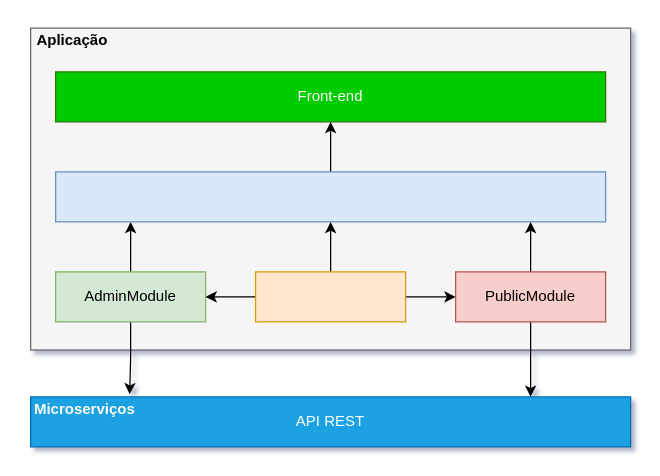
This 660x476 diagram has some shape labels left out. The centre of each missing label's shape, as x and y in pixels:
AppModule: point (330, 196)
SharedModule: point (330, 296)
